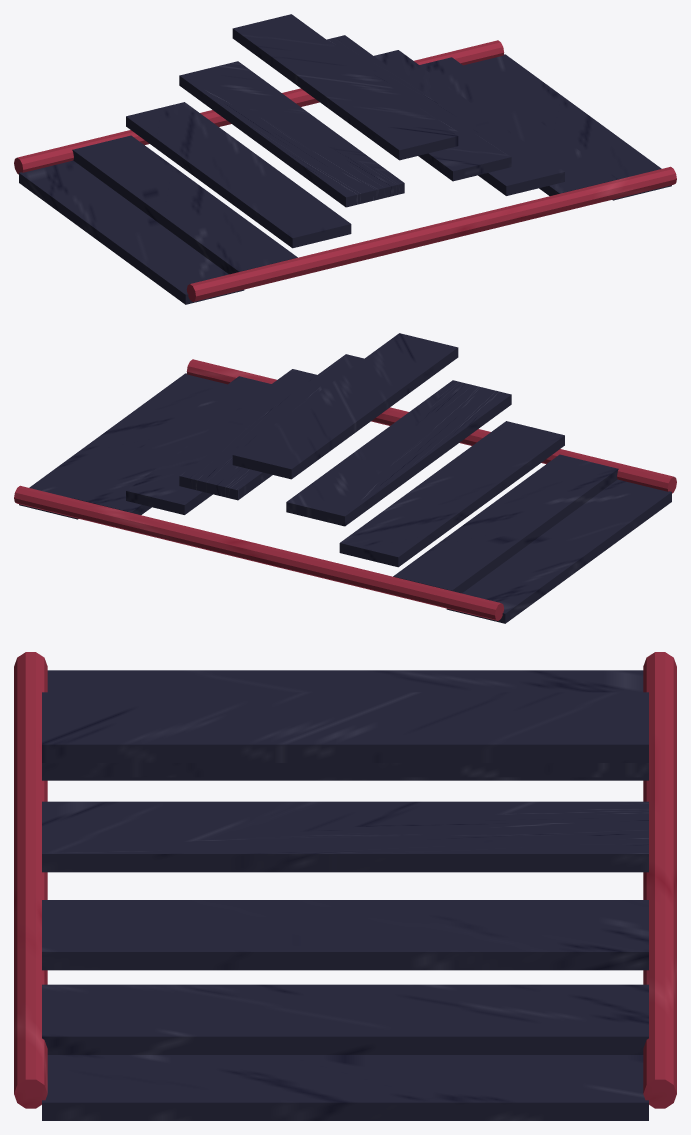
File: dojo_roof_eave_module_lod1.glb
The picture shows the model from 3 angles, top to bottom: view 1: azimuth 30°, elevation 25°; view 2: azimuth 150°, elevation 25°; view 3: azimuth 270°, elevation 25°; orthographic projection. The views are drawn at different scales.
Visible parts, largest first — view 1: dojo_roof_eave_module_022, dojo_roof_eave_module_021, dojo_roof_eave_module_020, dojo_roof_eave_module_019, dojo_roof_eave_module_018, dojo_roof_eave_module_028, dojo_roof_eave_module_026, dojo_roof_eave_module_025, dojo_roof_eave_module_024, dojo_roof_eave_module_023, dojo_roof_eave_module_027; view 2: dojo_roof_eave_module_022, dojo_roof_eave_module_021, dojo_roof_eave_module_020, dojo_roof_eave_module_019, dojo_roof_eave_module_018, dojo_roof_eave_module_027, dojo_roof_eave_module_026, dojo_roof_eave_module_025, dojo_roof_eave_module_024, dojo_roof_eave_module_023, dojo_roof_eave_module_028; view 3: dojo_roof_eave_module_023, dojo_roof_eave_module_022, dojo_roof_eave_module_024, dojo_roof_eave_module_025, dojo_roof_eave_module_026, dojo_roof_eave_module_018, dojo_roof_eave_module_027, dojo_roof_eave_module_028, dojo_roof_eave_module_021, dojo_roof_eave_module_020.
Boxes of the visible parts, bbox=[...] form: dojo_roof_eave_module_022: bbox=[232, 14, 458, 160]; dojo_roof_eave_module_021: bbox=[179, 61, 404, 207]; dojo_roof_eave_module_020: bbox=[126, 102, 351, 248]; dojo_roof_eave_module_019: bbox=[72, 135, 297, 274]; dojo_roof_eave_module_018: bbox=[19, 160, 244, 304]; dojo_roof_eave_module_028: bbox=[186, 166, 676, 301]; dojo_roof_eave_module_026: bbox=[463, 54, 671, 200]; dojo_roof_eave_module_025: bbox=[419, 57, 618, 195]; dojo_roof_eave_module_024: bbox=[374, 50, 564, 195]; dojo_roof_eave_module_023: bbox=[327, 35, 511, 181]; dojo_roof_eave_module_027: bbox=[14, 40, 504, 174]; dojo_roof_eave_module_022: bbox=[232, 333, 458, 479]; dojo_roof_eave_module_021: bbox=[286, 380, 511, 526]; dojo_roof_eave_module_020: bbox=[339, 421, 564, 567]; dojo_roof_eave_module_019: bbox=[393, 454, 618, 593]; dojo_roof_eave_module_018: bbox=[446, 479, 671, 623]; dojo_roof_eave_module_027: bbox=[14, 485, 504, 620]; dojo_roof_eave_module_026: bbox=[19, 373, 227, 519]; dojo_roof_eave_module_025: bbox=[72, 376, 271, 514]; dojo_roof_eave_module_024: bbox=[126, 369, 316, 514]; dojo_roof_eave_module_023: bbox=[179, 354, 363, 500]; dojo_roof_eave_module_028: bbox=[186, 359, 676, 493]; dojo_roof_eave_module_023: bbox=[42, 801, 648, 872]; dojo_roof_eave_module_022: bbox=[42, 692, 648, 762]; dojo_roof_eave_module_024: bbox=[42, 900, 648, 970]; dojo_roof_eave_module_025: bbox=[42, 984, 648, 1054]; dojo_roof_eave_module_026: bbox=[42, 1055, 648, 1120]; dojo_roof_eave_module_018: bbox=[47, 670, 643, 692]; dojo_roof_eave_module_027: bbox=[643, 652, 676, 1108]; dojo_roof_eave_module_028: bbox=[14, 652, 47, 1108]; dojo_roof_eave_module_021: bbox=[42, 763, 648, 777]; dojo_roof_eave_module_020: bbox=[42, 777, 648, 780].
Bounding box in the file's own units: 9.1 × 1.83 × 5.9.
2 materials, 2 textured.
